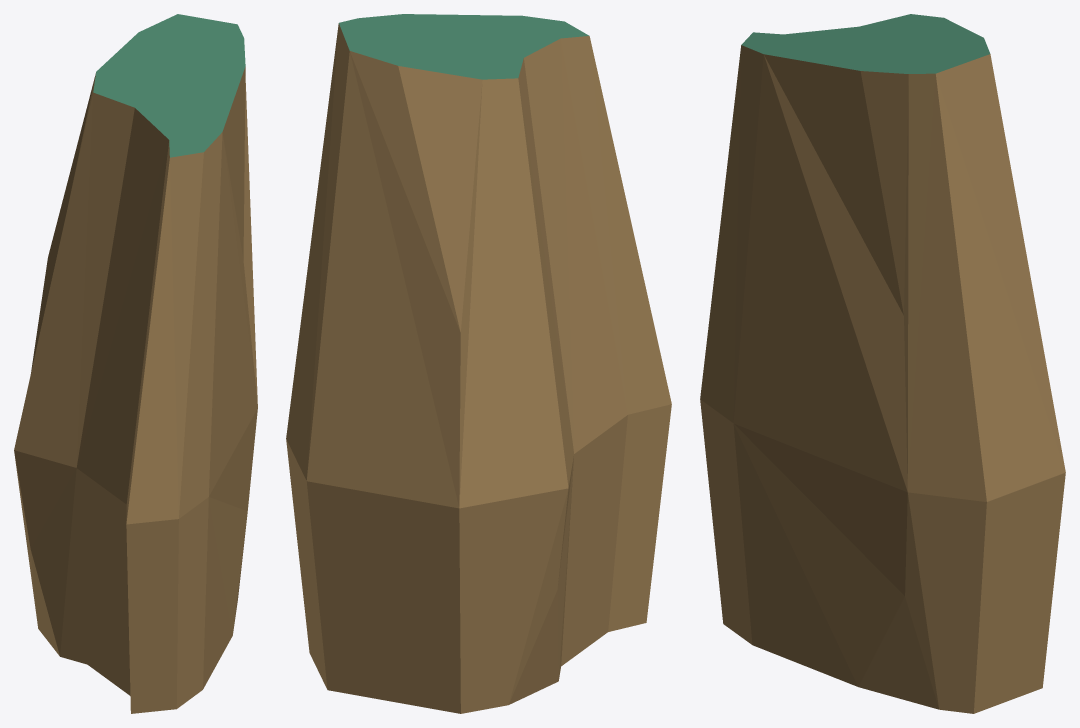
Rendered from Rock_Large_Mesa_Eroded_Moss_Grass_07.FBX.
The picture shows the model from 3 angles, left to right: view 1: azimuth 30°, elevation 25°; view 2: azimuth 150°, elevation 25°; view 3: azimuth 270°, elevation 25°; orthographic projection. The views are drawn at different scales.
Parts seen in each view (by area): view 1: Rock_Large_Mesa_Eroded_Moss_Grass_07; view 2: Rock_Large_Mesa_Eroded_Moss_Grass_07; view 3: Rock_Large_Mesa_Eroded_Moss_Grass_07.
Boxes of the visible parts, x1,y1,x2,y2 form: Rock_Large_Mesa_Eroded_Moss_Grass_07: (14,14,257,713); Rock_Large_Mesa_Eroded_Moss_Grass_07: (286,14,671,713); Rock_Large_Mesa_Eroded_Moss_Grass_07: (700,14,1065,713).
Bounding box in the file's own units: 3561 × 8026 × 4185.
